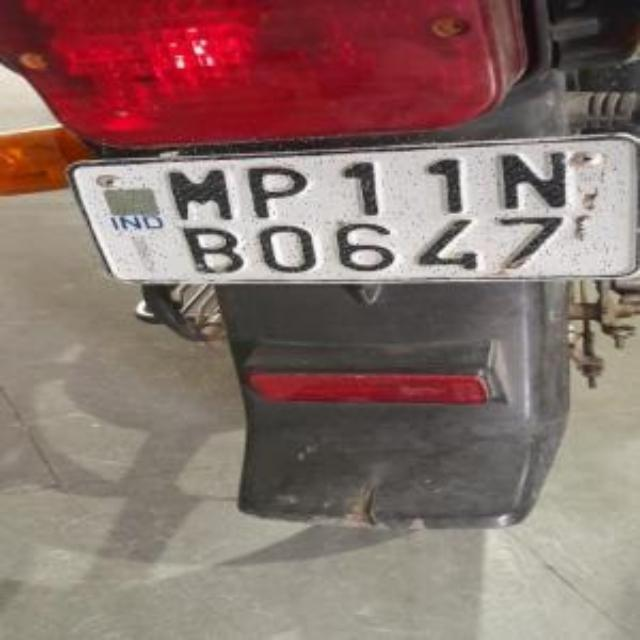License Plate: (92, 136, 625, 278)
